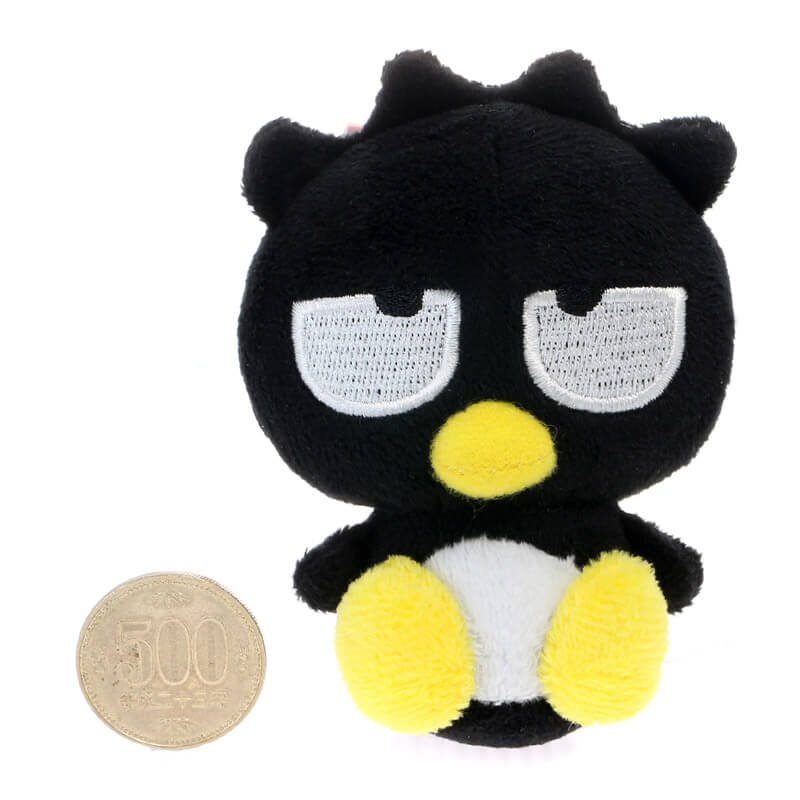batsumaru: (241, 52, 737, 749)
